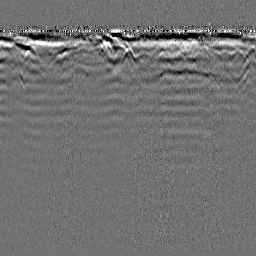cavity: (121, 44, 137, 62)
